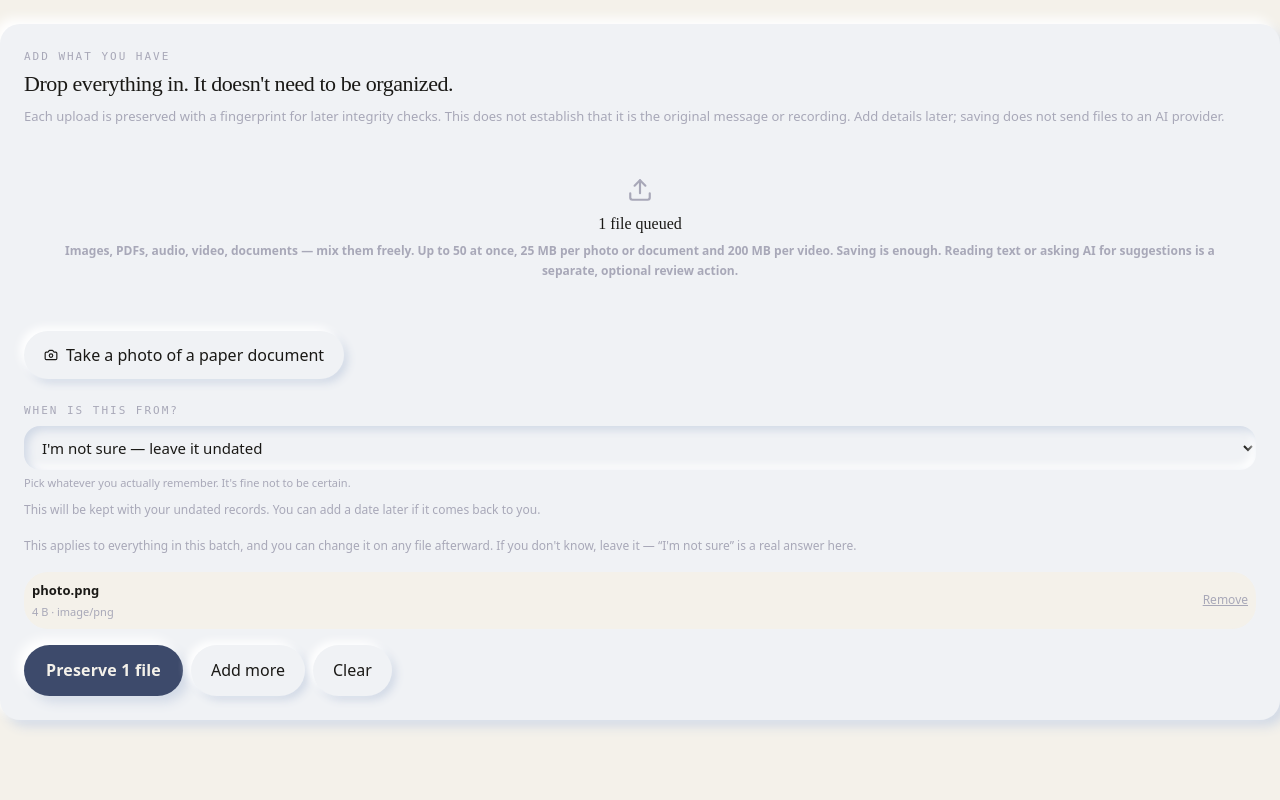
it: preservation is separate from outside processing › preserves image/png without sending it for processing even if host policy is approved
Earlier steps of the test are not shown.
What coordinates should you click on to do the following:
click the button "Preserve 1 file"
I would click on:
 (104, 670)
Its box is [24,645,183,696].
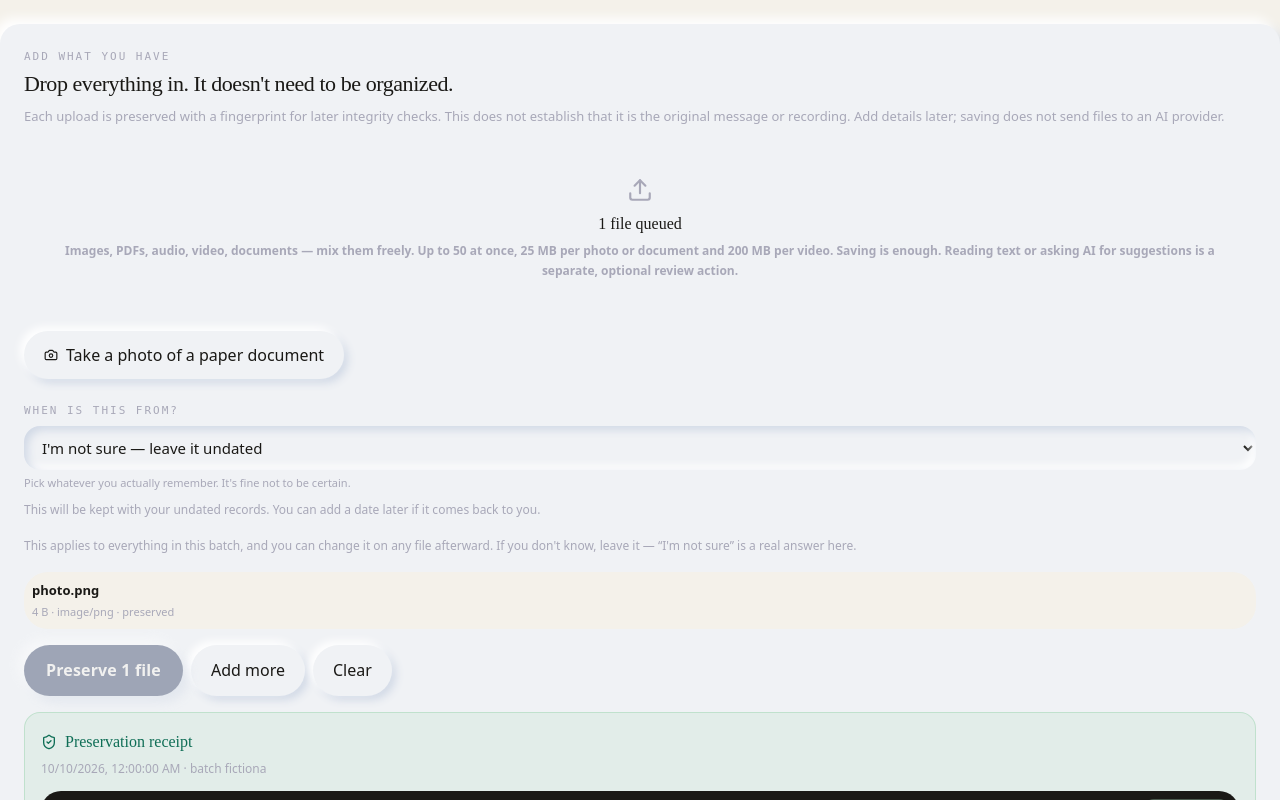
expect the text "Preservation receipt" is shown: met, box [65,728,192,755]
